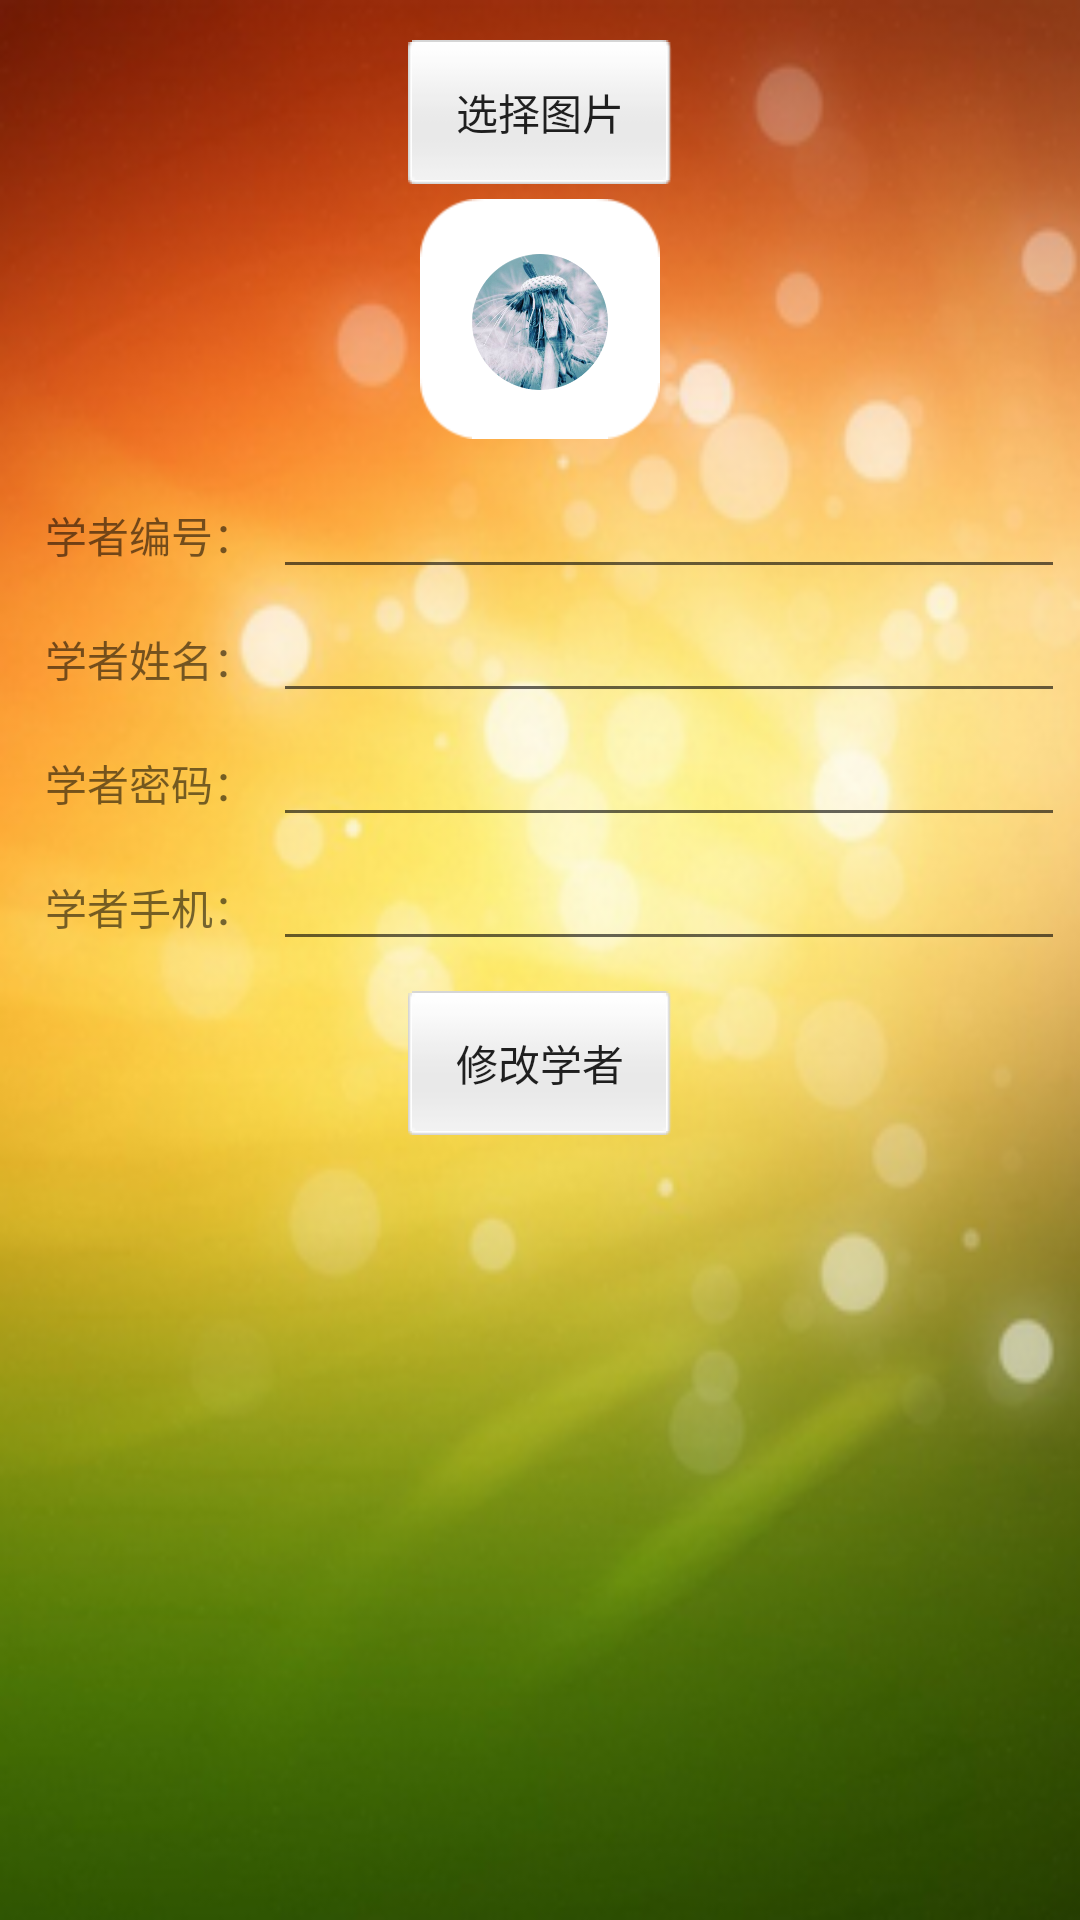

Named icons in this screenshot (1080px×1920px) and their centers, [x,y]:
head: [540,319]
